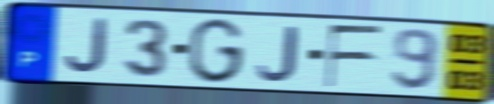3: (121, 18, 172, 79)
9: (390, 27, 440, 92)
F: (323, 23, 386, 90)
G: (186, 16, 247, 86)
J: (63, 16, 110, 75), (255, 24, 299, 83)
